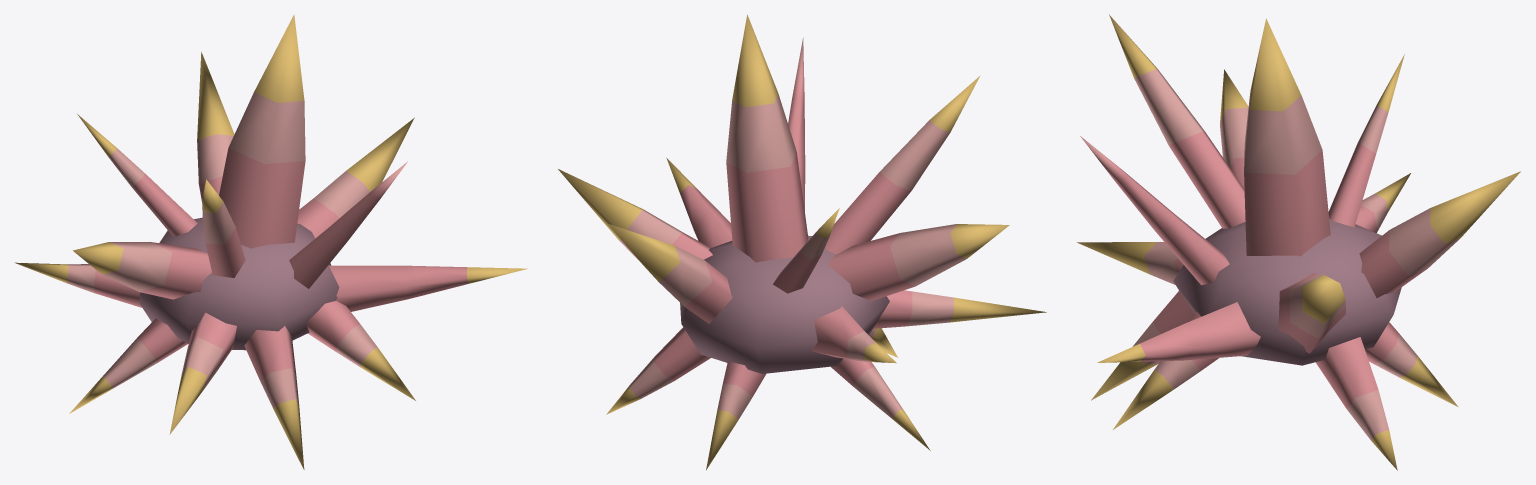
File: seaUrchin_01_seaUrchin_01_LOD0.glb
The picture shows the model from 3 angles, left to right: view 1: azimuth 30°, elevation 25°; view 2: azimuth 150°, elevation 25°; view 3: azimuth 270°, elevation 25°; orthographic projection. The views are drawn at different scales.
Visible parts, largest first — view 1: seaUrchin_01:seaUrchin_01_LOD0; view 2: seaUrchin_01:seaUrchin_01_LOD0; view 3: seaUrchin_01:seaUrchin_01_LOD0.
Part boxes in pixels (x1,y1,x2,y2): seaUrchin_01:seaUrchin_01_LOD0: [14, 14, 527, 469]; seaUrchin_01:seaUrchin_01_LOD0: [558, 14, 1046, 470]; seaUrchin_01:seaUrchin_01_LOD0: [1077, 14, 1520, 470].
Size of the model in its own units: 0.8493 by 0.7777 by 0.7469.
